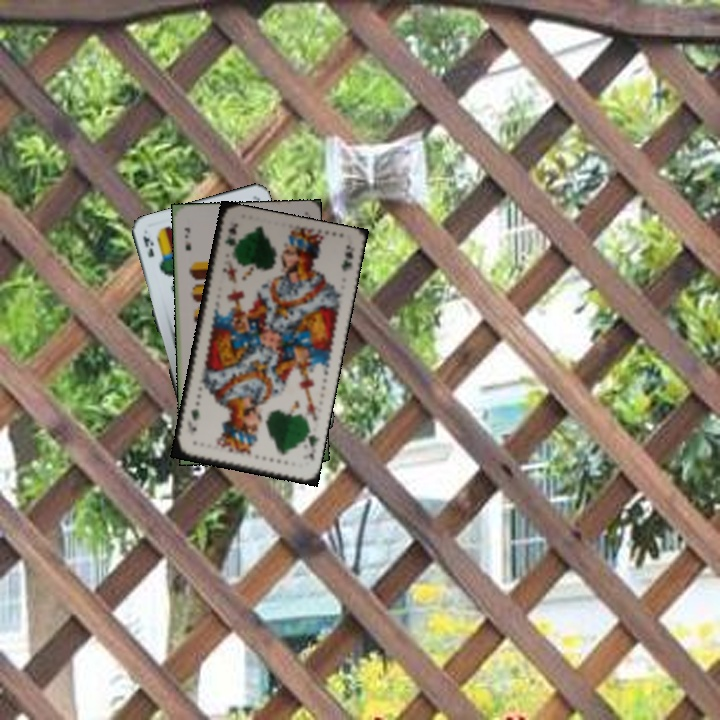E7: (180, 223, 194, 254)
EK: (139, 231, 156, 260)
GK: (300, 426, 321, 463), (221, 220, 241, 249)
